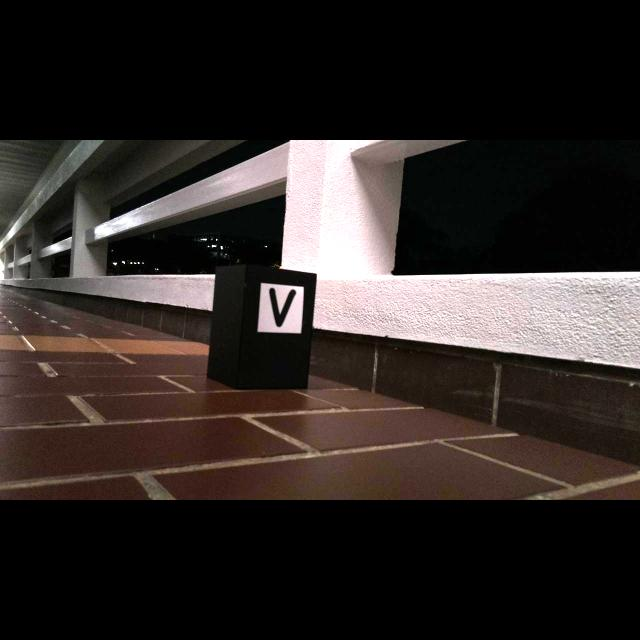V: (269, 287, 296, 327)
